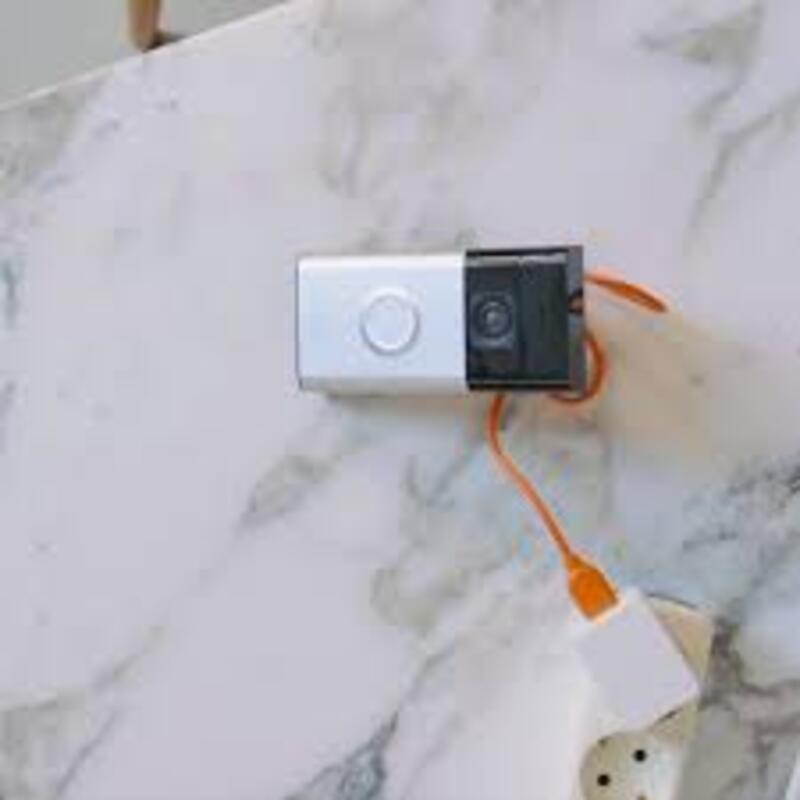doorbell: (292, 260, 585, 381)
